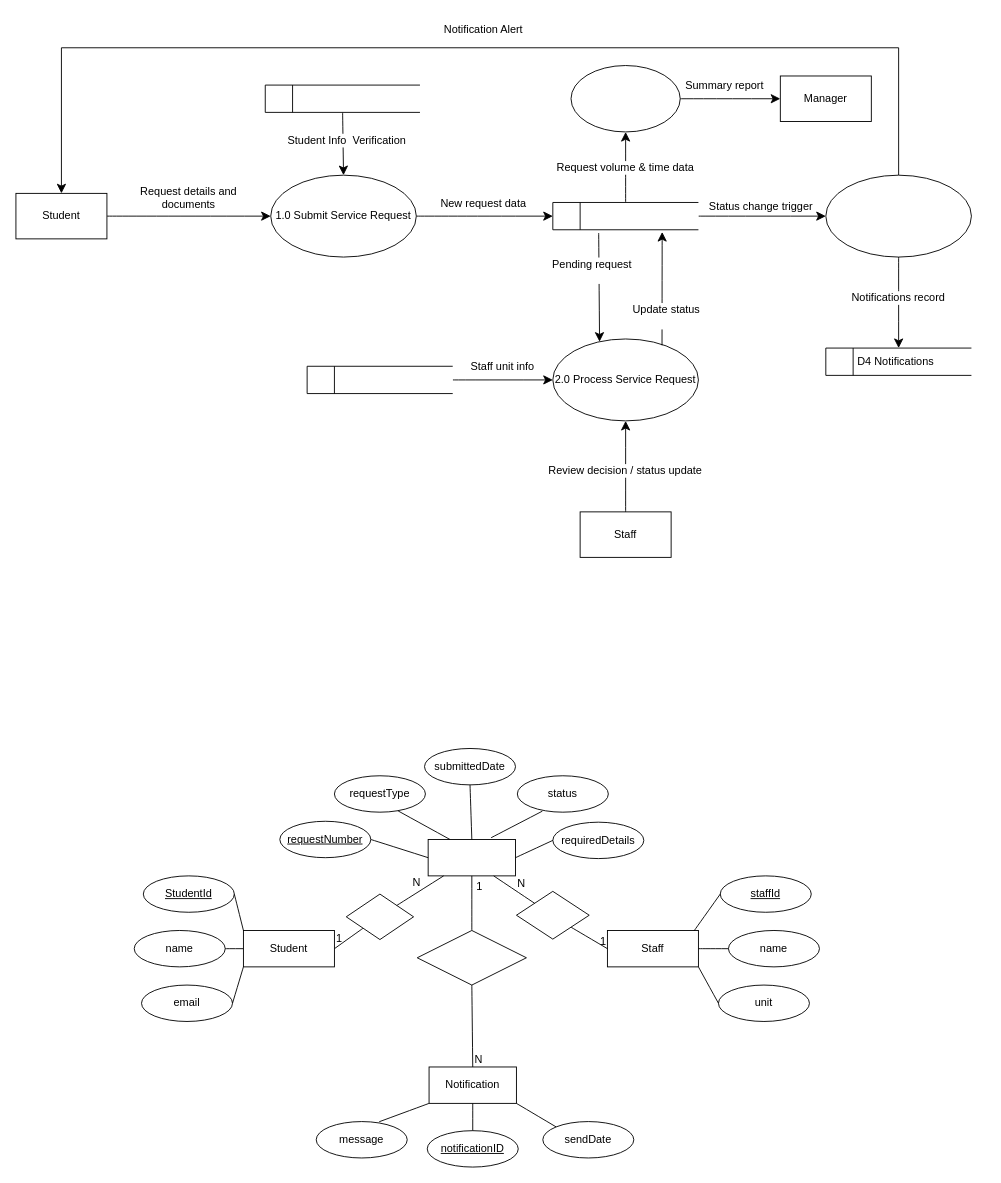
The diagram is 1001 pixels wide and 1183 high, and some of its shapes have lost their labels. The centre of each missing label's shape, as x and y in pixels:
3.0 Manage Notifications: the point at 898,215
4.0 Generate Summary Reports: the point at 625,98
D1 Student Account: the point at 342,98
D2 Staff Accounts: the point at 379,379
D3 Service Request: the point at 625,216
processes: the point at 552,914
ServiceRequest: the point at 471,857
submits: the point at 379,916
triggers: the point at 471,957
